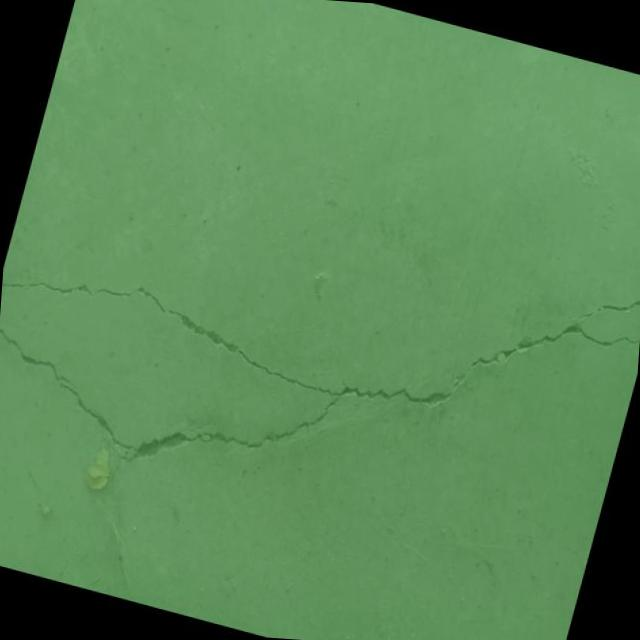crack: (0, 131, 640, 586)
